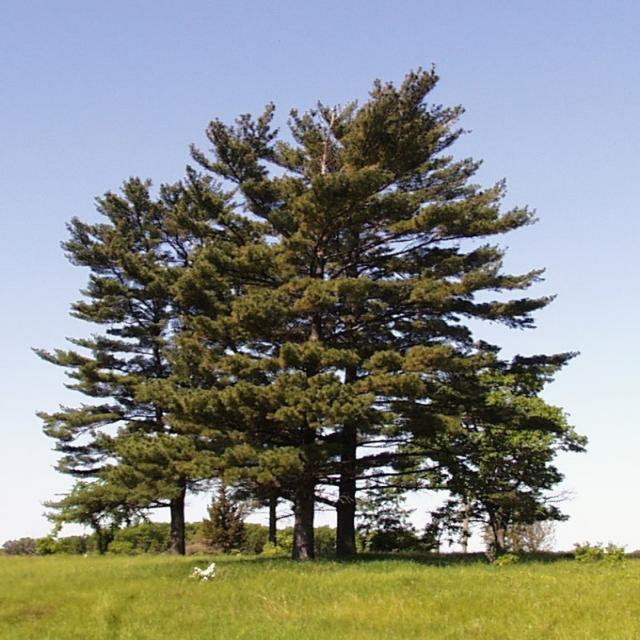tree: (242, 125, 345, 554), (92, 193, 200, 558), (328, 115, 395, 560)
